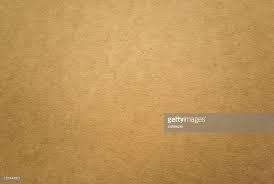Cardboard: (1, 1, 274, 184)
